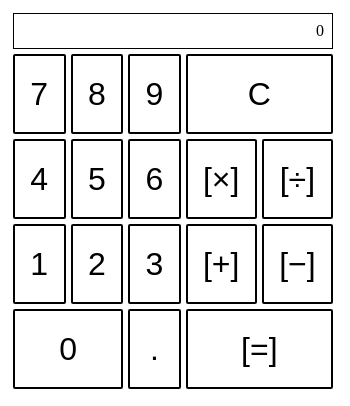
Test case: <Calculator /> › clear screen button
Step 1. Click the button "4" → click(39, 179), box [13,139,66,219]
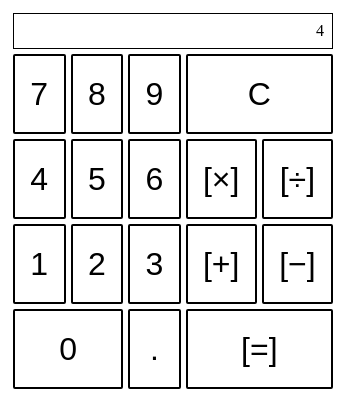
Step 2. Click the button "[+]" → click(221, 264), box [186,224,257,304]
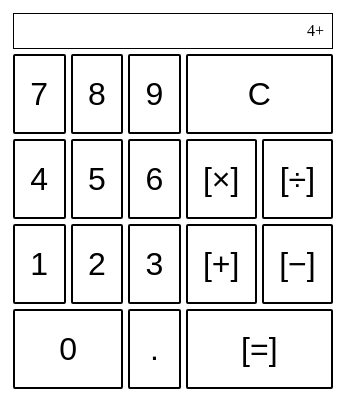
Step 3. Click the button "5" → click(97, 179), box [70,139,123,219]
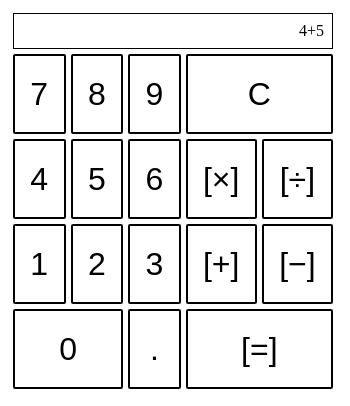
Step 4. Click the button "[+]" → click(221, 264), box [186,224,257,304]
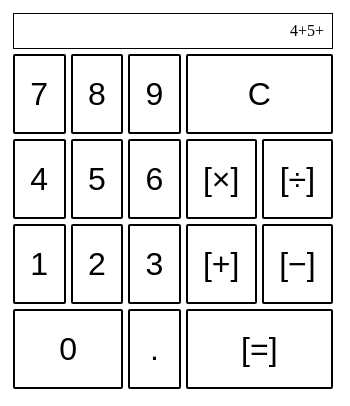
Step 5. Click the button "6" → click(154, 179), box [128,139,181,219]
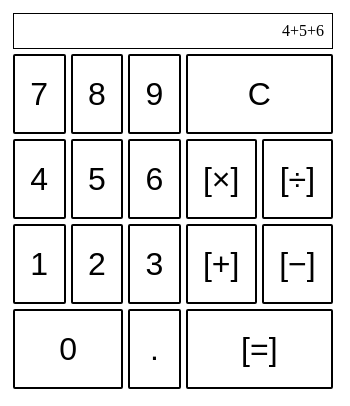
Expected: the text with test id "calculator-display" reads "4+5+6", [282,22,324,39]
Step 6. Click the button with test id "btn-clear" → click(259, 94), box [186,54,333,134]
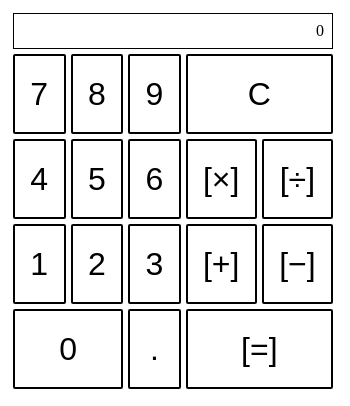
Expected: the text with test id "calculator-display" reads "0", [316,22,324,39]
